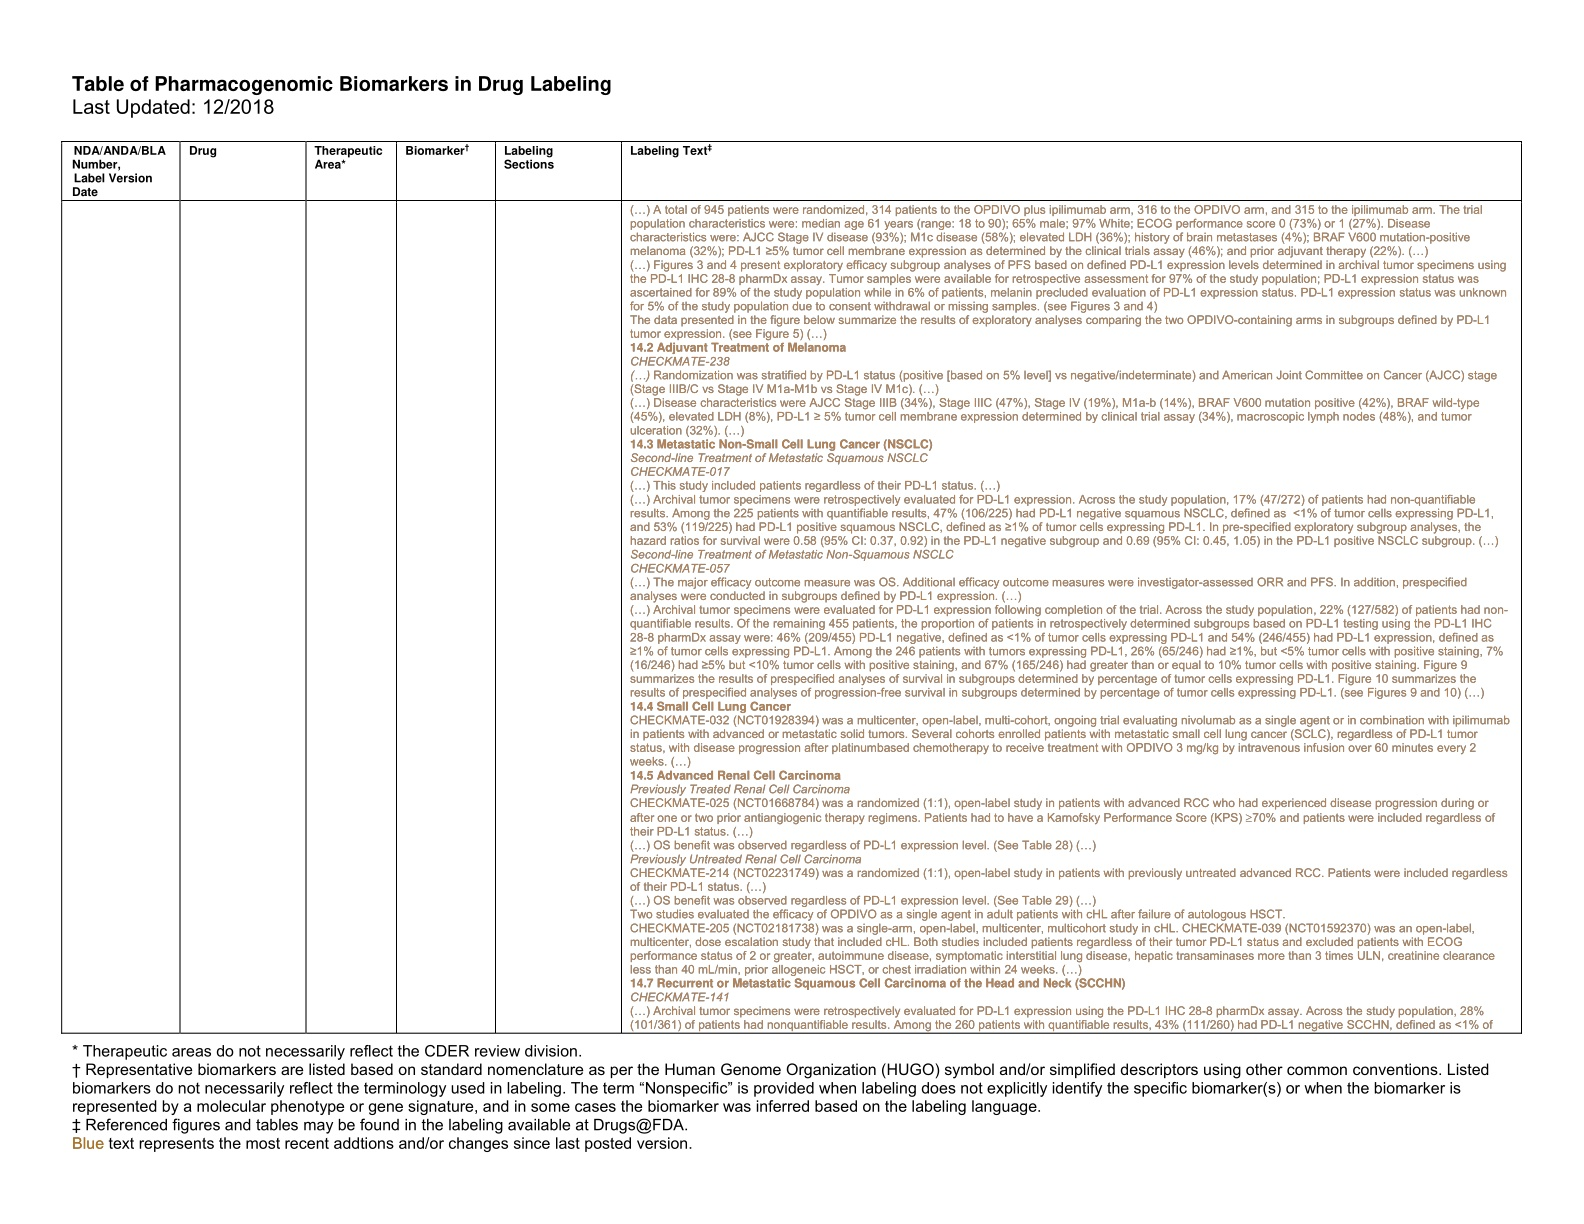full_lined: (60, 139, 1524, 1035)
